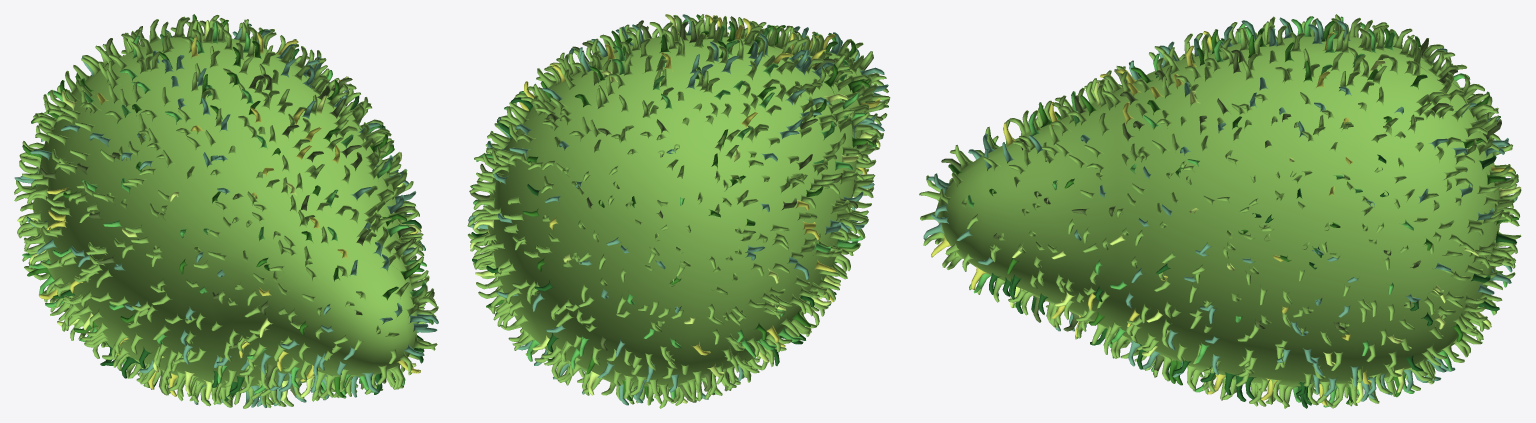
3 renders of one model, left to right at view 1: azimuth 30°, elevation 25°; view 2: azimuth 150°, elevation 25°; view 3: azimuth 270°, elevation 25°, orthographic. The views are drawn at different scales.
Size of the model in its own units: 1.93 by 1.93 by 2.97.
